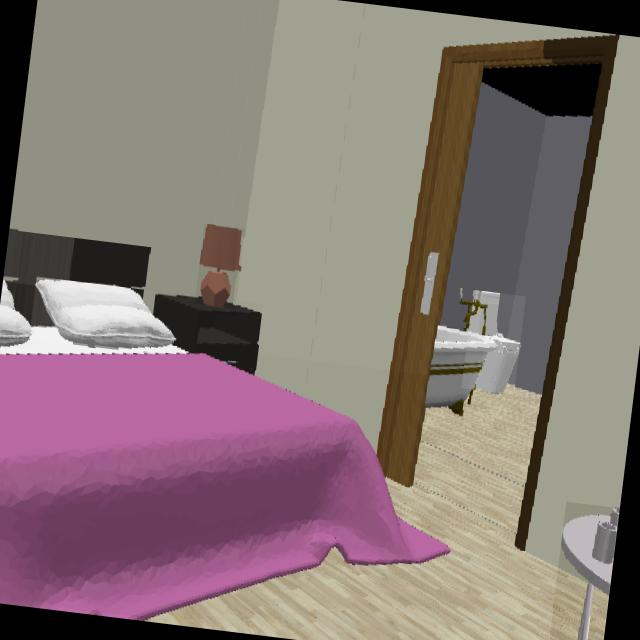bathtube: (425, 326, 494, 407)
bed: (0, 328, 446, 616)
lamp: (200, 224, 242, 306)
nighttable: (154, 297, 261, 372)
pillow: (36, 281, 174, 349), (0, 281, 32, 346)
table: (563, 508, 619, 640)
toilet: (469, 290, 520, 392)
